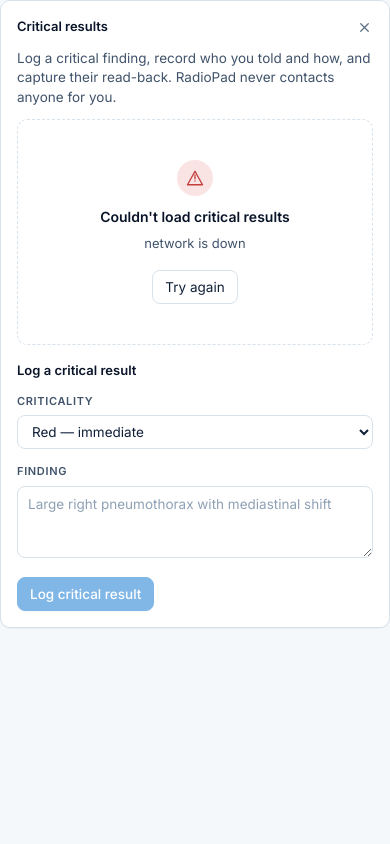
Test: CriticalResultPanel › surfaces a load failure with a retry
Check: the text "network is down" is shown, box [144,234,246,254]
Click the button "Try again". click: {"x": 195, "y": 287}
box: [152,270,238,304]
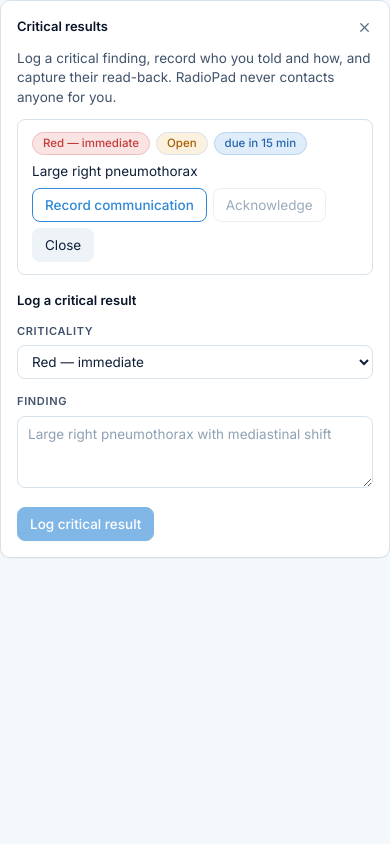
Check: the text "Large right pneumothorax" is shown, box [32,163,198,179]
